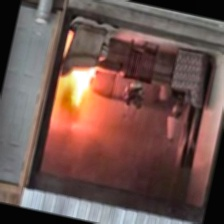fire: (52, 70, 107, 139)
